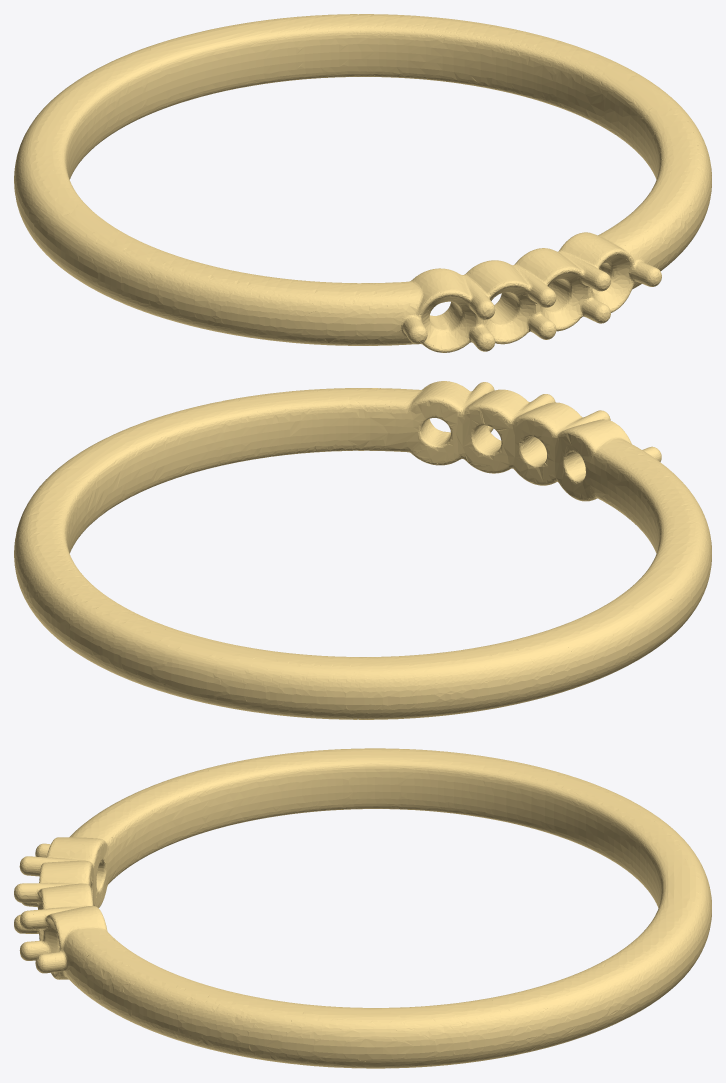
The model's file is stack-band-b.glb.
3 views of the same model, one above another, from view 1: azimuth 30°, elevation 25°; view 2: azimuth 150°, elevation 25°; view 3: azimuth 270°, elevation 25° (orthographic). The views are drawn at different scales.
Parts seen in each view (by area): view 1: Metal Yellow Gold; view 2: Metal Yellow Gold; view 3: Metal Yellow Gold.
Part boxes in pixels (x1=…): Metal Yellow Gold: x1=14, y1=14, x2=711, y2=352; Metal Yellow Gold: x1=14, y1=381, x2=711, y2=719; Metal Yellow Gold: x1=14, y1=748, x2=711, y2=1068.
Size of the model in its own units: 20.52 by 2.23 by 21.27.
